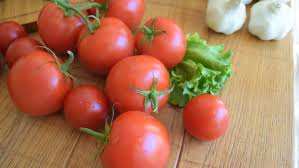tomato: (7, 51, 71, 117), (74, 18, 135, 76), (135, 18, 188, 66), (183, 93, 230, 142), (63, 85, 109, 131)
